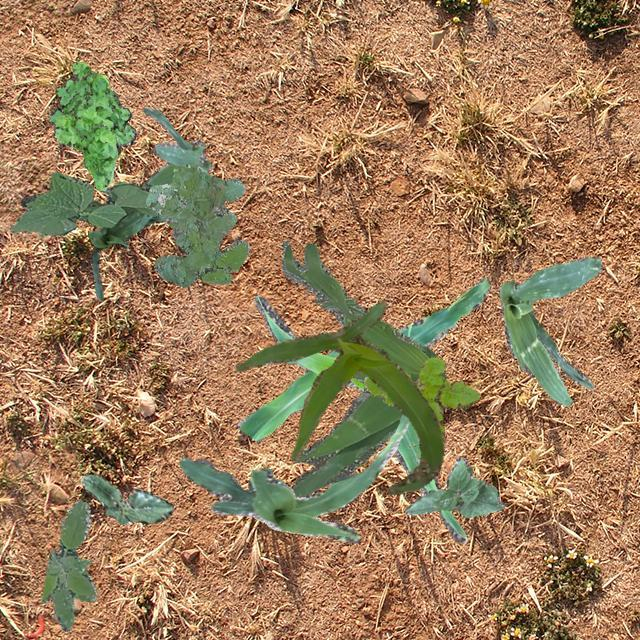crop: (236, 276, 490, 542), (236, 301, 444, 494), (178, 412, 408, 542), (498, 255, 602, 406), (100, 105, 212, 194), (9, 172, 158, 236), (88, 210, 164, 300), (404, 456, 504, 516), (80, 474, 172, 524)
weed: (280, 239, 444, 496), (144, 162, 248, 286), (48, 60, 136, 190), (362, 356, 478, 442), (40, 498, 96, 630)
